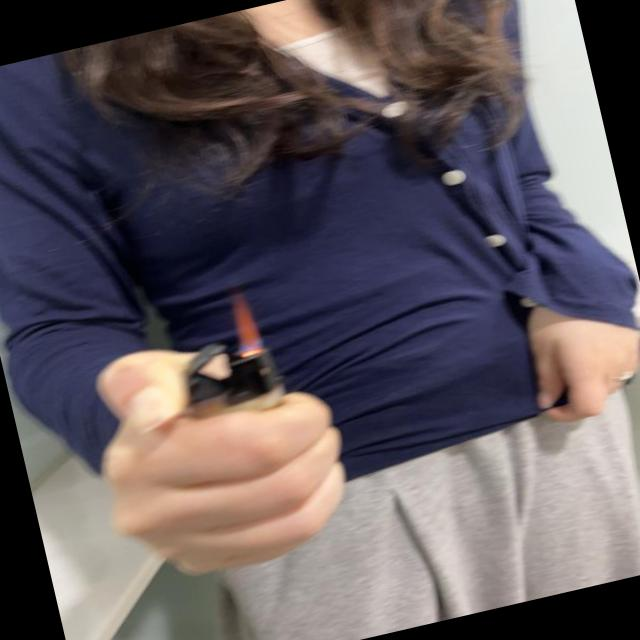Fire: (230, 292, 264, 350)
